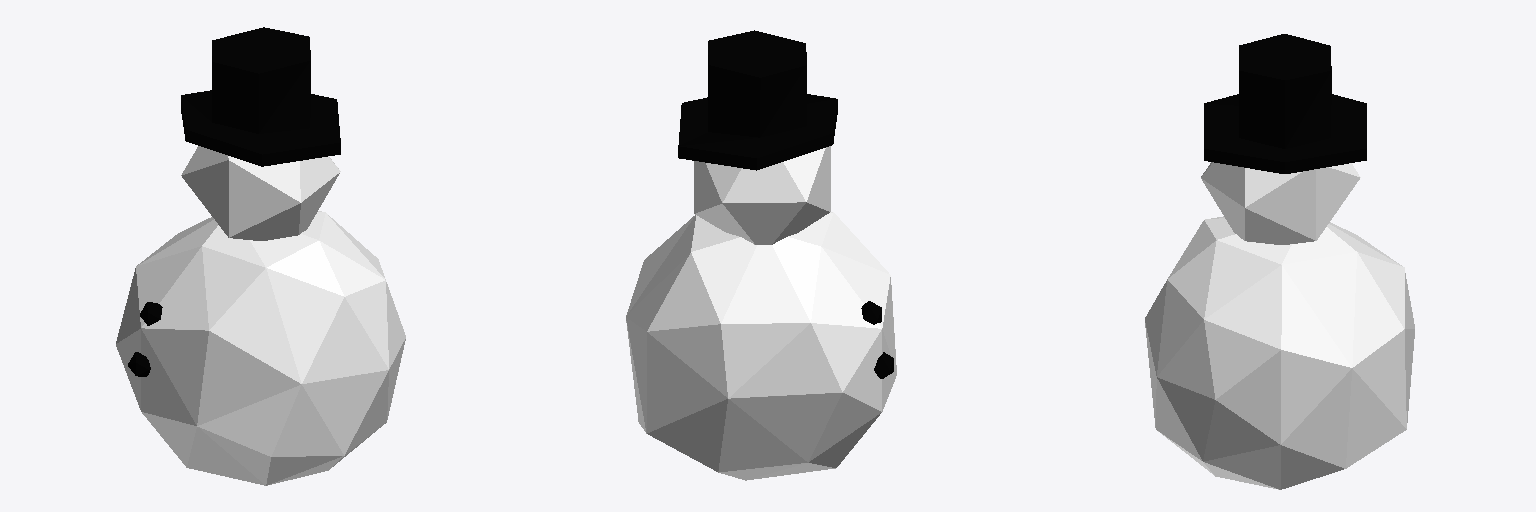
File: snowman_no_carrot.obj
3 renders of one model, left to right at view 1: azimuth 30°, elevation 25°; view 2: azimuth 150°, elevation 25°; view 3: azimuth 270°, elevation 25°, orthographic.
Bounding box in the file's own units: 3.21 × 5.02 × 3.01.